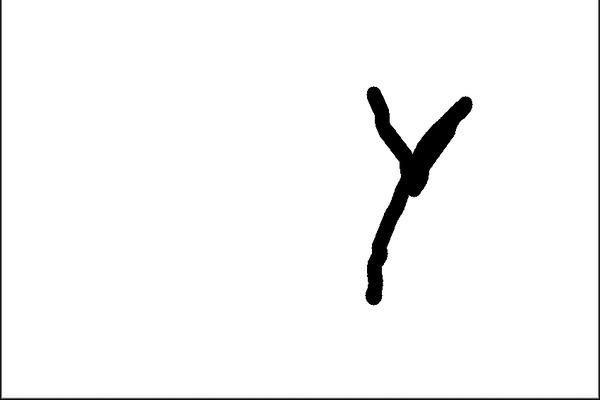Y: (344, 75, 493, 315)
